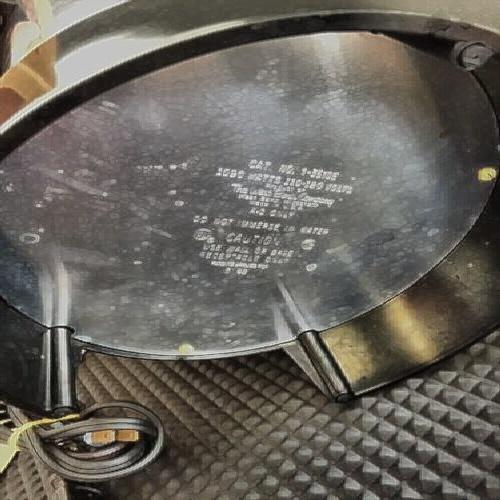coffee_maker: (30, 19, 470, 397)
